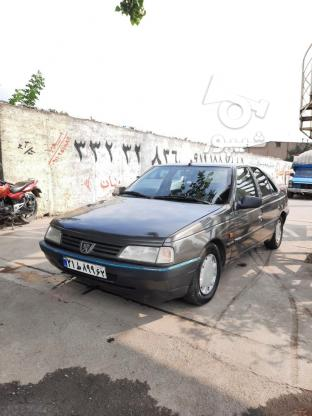car: (64, 255, 110, 283)
